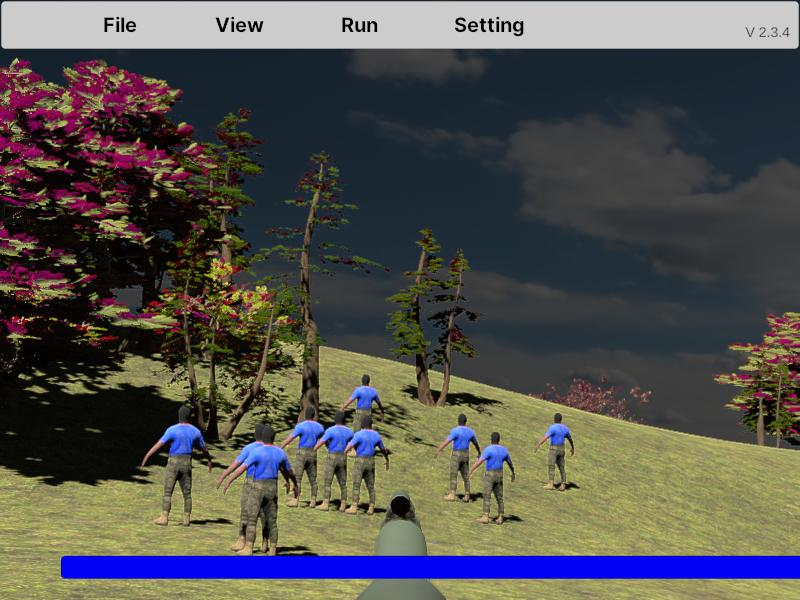Human: (222, 423, 299, 558), (141, 405, 212, 528), (275, 405, 333, 507), (310, 410, 363, 513), (341, 416, 389, 516), (467, 432, 515, 524), (435, 412, 483, 503), (339, 373, 385, 455), (536, 412, 574, 490)
